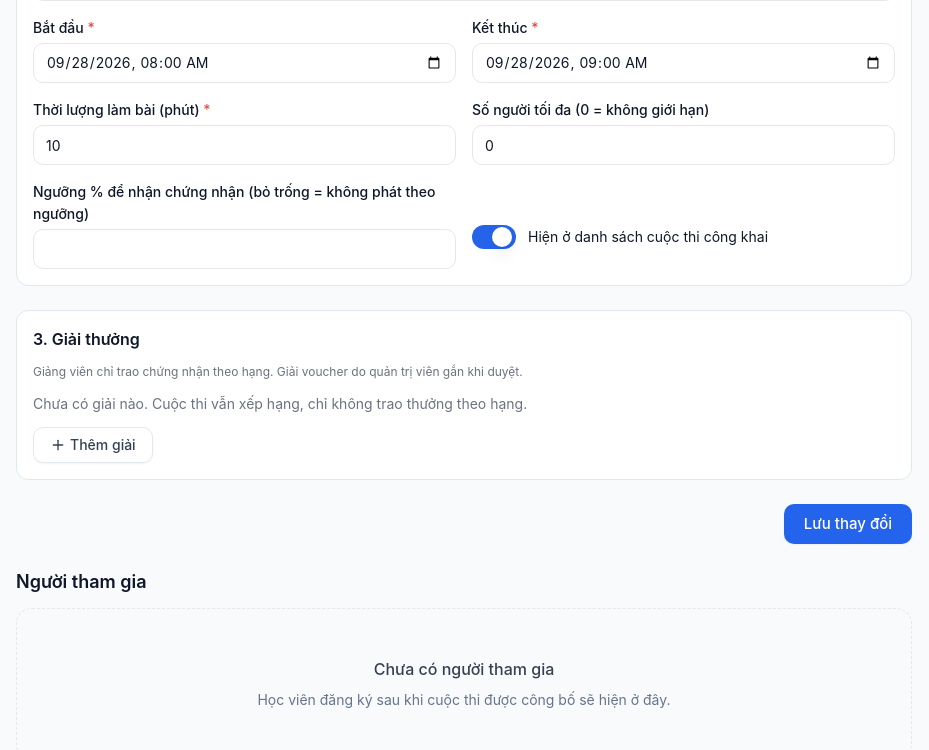
it: /teacher/contests/[id] › bị từ chối: hiện lý do, có form sửa + gửi duyệt lại, form KHÔNG có ô voucher
The width and height of the screenshot is (929, 750).
(page scrolled)
Click the button "Thêm giải".
click(93, 445)  # box [33,427,153,463]
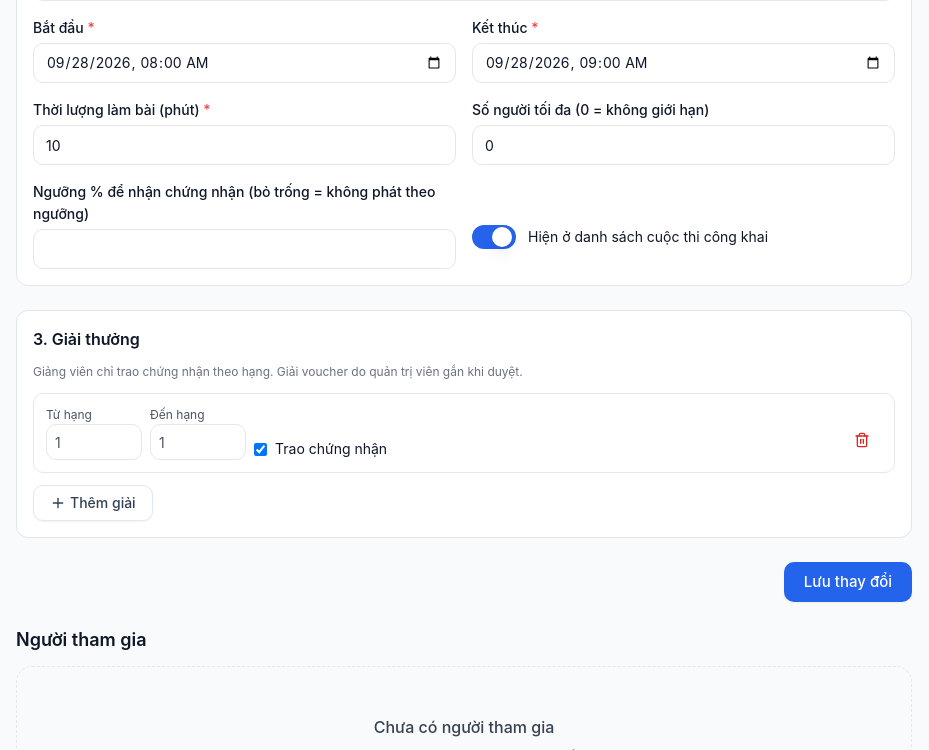
expect the element with test id "prize-row-0" is shown: met, box [33,393,895,473]
